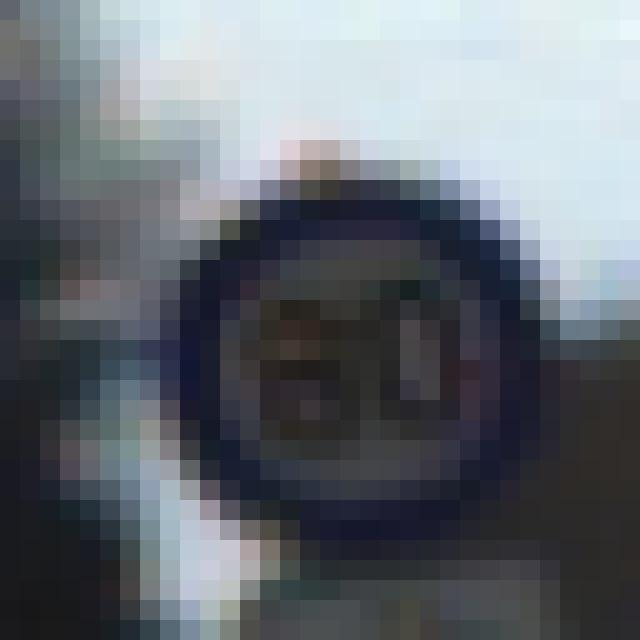SPEED-LIMIT-80: (165, 173, 545, 540)
